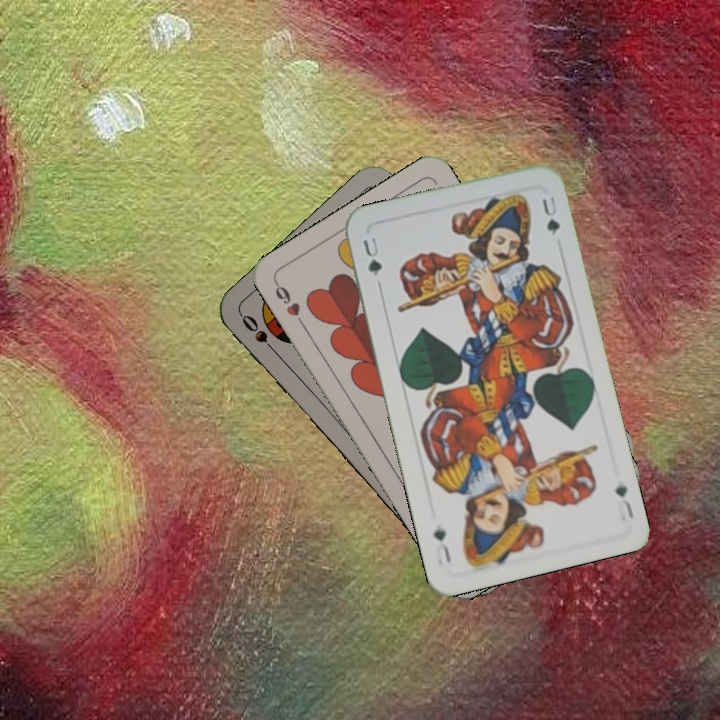GU: (358, 233, 385, 279), (611, 481, 636, 524)
H9: (271, 277, 308, 331)
SO: (237, 310, 282, 359)
